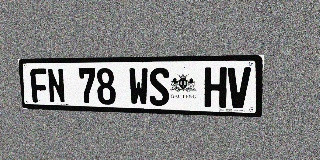7: (77, 68, 97, 104)
8: (96, 68, 116, 105)
F: (30, 68, 49, 103)
H: (204, 67, 227, 108)
N: (47, 68, 66, 103)
S: (149, 68, 170, 106)
V: (227, 67, 251, 108)
W: (128, 68, 149, 106)
